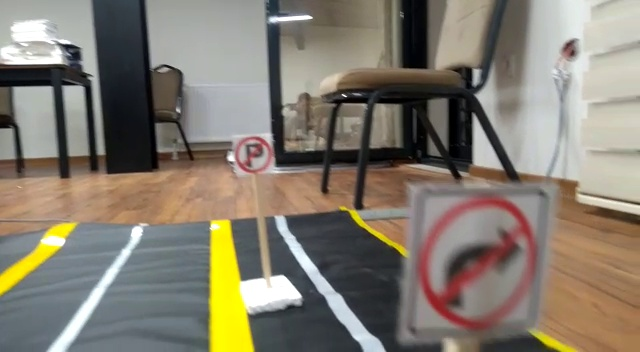park_yapilmaz: (229, 138, 275, 176)
saga_donulmez: (411, 187, 545, 328)
